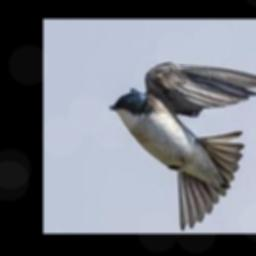Swallow: (109, 62, 256, 229)
